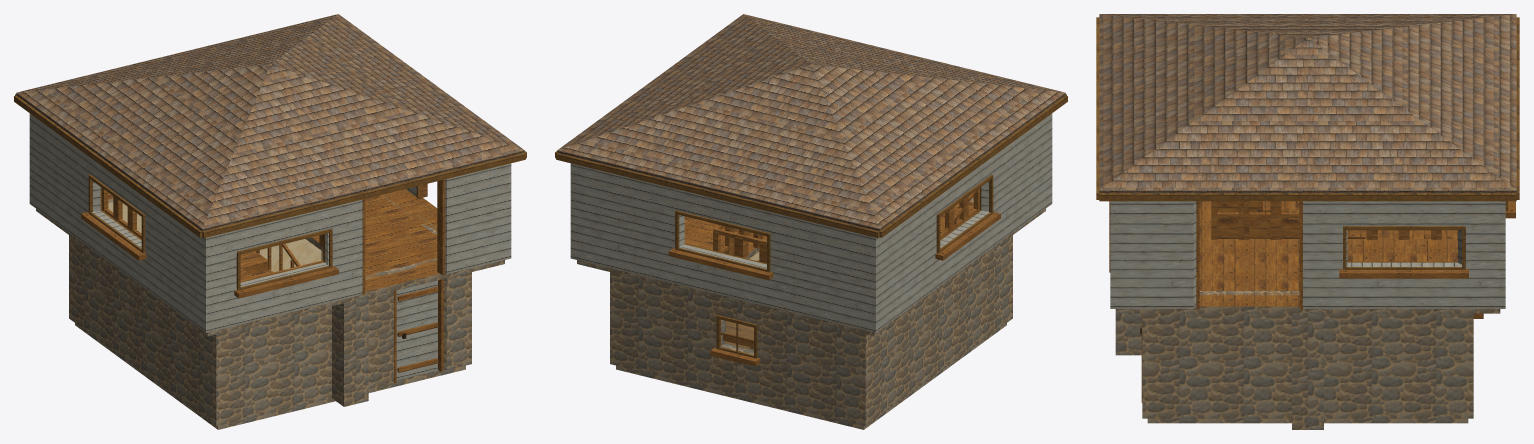
The model's file is frontier-blockhouse.gltf.
3 renders of one model, left to right at view 1: azimuth 30°, elevation 25°; view 2: azimuth 150°, elevation 25°; view 3: azimuth 270°, elevation 25°, orthographic. The views are drawn at different scales.
Parts seen in each view (by area): view 1: roof-L2-shingle, exterior-L1-timber, exterior-L0-stone, floor-L1-wood, roof-trim-L2-trim, structure-L0-stone, door-L0-door, facade-trim-L1-trim, floor-L1-stone, facade-trim-L1-wood, floor-L0-stone, portal-trim-L1-wood (+6 smaller); view 2: roof-L2-shingle, exterior-L1-timber, exterior-L0-stone, roof-trim-L2-trim, facade-trim-L1-trim, floor-L1-stone, guards-L1-wood, facade-trim-L1-wood, floor-L0-stone, floor-L1-wood, facade-trim-L0-trim, stairs-L0-wood (+1 smaller); view 3: roof-L2-shingle, exterior-L0-stone, exterior-L1-timber, floor-L1-wood, roof-trim-L2-trim, structure-L0-stone, stairs-L0-wood, floor-L1-stone, guards-L1-wood, floor-L0-stone, facade-trim-L1-trim, facade-trim-L1-wood (+2 smaller).
Part boxes in pixels (bbox=[...]): roof-L2-shingle: bbox=[16, 14, 524, 231]; exterior-L1-timber: bbox=[29, 113, 511, 332]; exterior-L0-stone: bbox=[69, 235, 471, 426]; floor-L1-wood: bbox=[108, 189, 439, 291]; roof-trim-L2-trim: bbox=[14, 94, 526, 237]; structure-L0-stone: bbox=[332, 297, 368, 406]; door-L0-door: bbox=[396, 280, 437, 379]; facade-trim-L1-trim: bbox=[88, 174, 332, 290]; floor-L1-stone: bbox=[36, 209, 504, 336]; facade-trim-L1-wood: bbox=[81, 212, 338, 298]; floor-L0-stone: bbox=[75, 323, 465, 429]; portal-trim-L1-wood: bbox=[362, 179, 445, 294]; roof-L2-shingle: bbox=[557, 14, 1065, 231]; exterior-L1-timber: bbox=[570, 113, 1052, 332]; exterior-L0-stone: bbox=[610, 235, 1012, 426]; roof-trim-L2-trim: bbox=[555, 94, 1067, 237]; facade-trim-L1-trim: bbox=[675, 174, 993, 272]; floor-L1-stone: bbox=[577, 209, 1045, 336]; guards-L1-wood: bbox=[713, 188, 979, 263]; facade-trim-L1-wood: bbox=[668, 212, 1000, 280]; floor-L0-stone: bbox=[616, 323, 1006, 429]; floor-L1-wood: bbox=[684, 196, 973, 252]; facade-trim-L0-trim: bbox=[716, 315, 757, 358]; stairs-L0-wood: bbox=[722, 190, 976, 349]; roof-L2-shingle: bbox=[1099, 14, 1516, 193]; exterior-L0-stone: bbox=[1142, 313, 1473, 418]; exterior-L1-timber: bbox=[1110, 201, 1505, 308]; floor-L1-wood: bbox=[1199, 201, 1457, 306]; roof-trim-L2-trim: bbox=[1096, 17, 1519, 201]; structure-L0-stone: bbox=[1115, 313, 1323, 429]; stairs-L0-wood: bbox=[1217, 201, 1457, 238]; floor-L1-stone: bbox=[1115, 306, 1500, 313]; guards-L1-wood: bbox=[1211, 201, 1441, 239]; floor-L0-stone: bbox=[1147, 418, 1468, 423]; facade-trim-L1-trim: bbox=[1343, 201, 1508, 269]; facade-trim-L1-wood: bbox=[1339, 201, 1515, 278].
Bounding box in the file's own units: 6.6 × 5.46 × 6.6.
9 materials, 8 textured.
